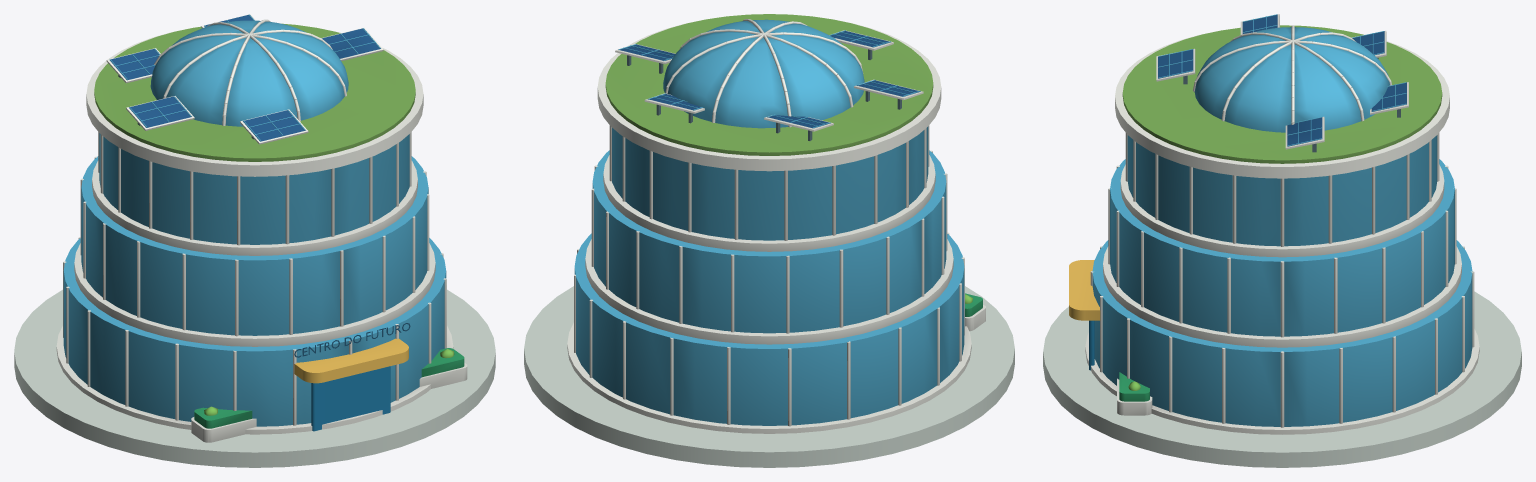
Rendered from eco-dome.glb.
3 renders of one model, left to right at view 1: azimuth 30°, elevation 25°; view 2: azimuth 150°, elevation 25°; view 3: azimuth 270°, elevation 25°, orthographic. The views are drawn at different scales.
Visible parts, largest first — view 1: curved blue facade, rounded floor edge, circular public forecourt, living roof, photovoltaic cells, automatic glass doors, entry canopy, planter foliage, identity CENTRO DO FUTURO; view 2: curved blue facade, rounded floor edge, circular public forecourt, living roof, photovoltaic cells; view 3: curved blue facade, rounded floor edge, circular public forecourt, living roof, photovoltaic cells, entry canopy, planter foliage.
Part boxes in pixels (x1,y1,x2,y2): curved blue facade: (63, 14, 446, 426); rounded floor edge: (56, 14, 467, 442); circular public forecourt: (14, 289, 495, 467); living roof: (94, 23, 415, 161); photovoltaic cells: (109, 15, 380, 141); automatic glass doors: (311, 366, 390, 431); entry canopy: (294, 338, 408, 383); planter foliage: (194, 348, 464, 428); identity CENTRO DO FUTURO: (294, 323, 410, 357); curved blue facade: (574, 19, 964, 425); rounded floor edge: (567, 19, 985, 433); circular public forecourt: (524, 286, 1014, 467); living roof: (605, 14, 933, 155); photovoltaic cells: (620, 31, 920, 128); curved blue facade: (1092, 14, 1472, 426); rounded floor edge: (1085, 14, 1479, 434); circular public forecourt: (1043, 291, 1521, 467); living roof: (1122, 25, 1442, 163); photovoltaic cells: (1158, 14, 1406, 146); entry canopy: (1069, 260, 1100, 320); planter foliage: (1119, 372, 1149, 401).
Size of the model in its own units: 6.8 by 5.11 by 6.8.
